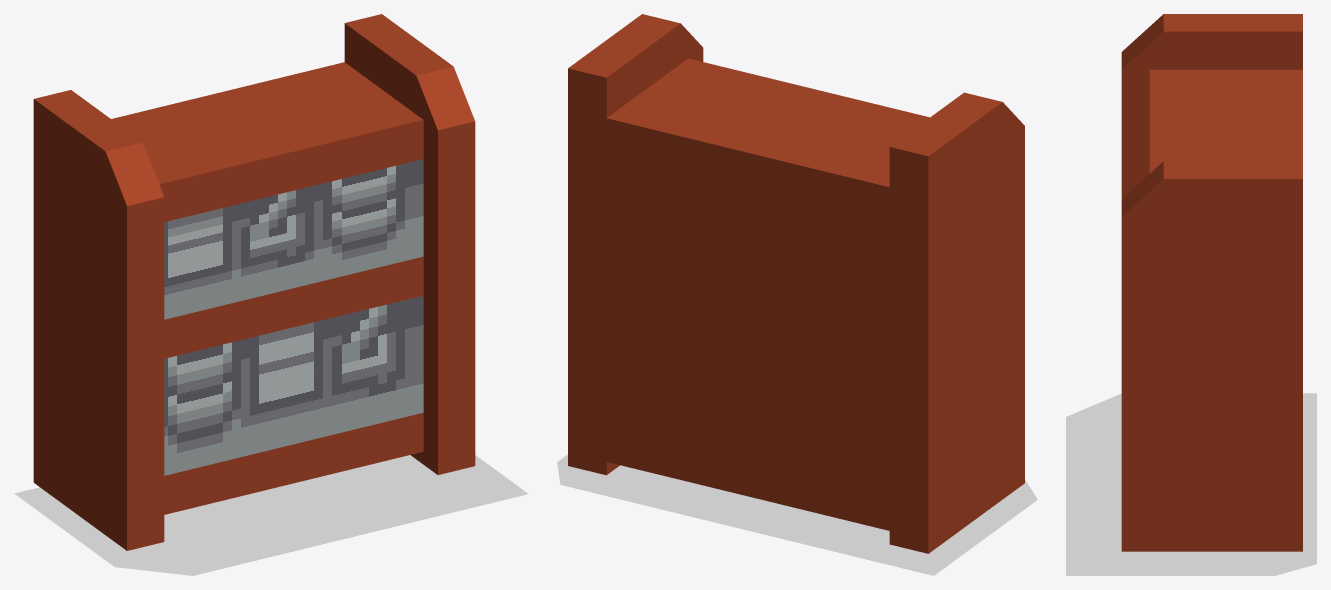
Rendered from Shelf 12.obj.
The picture shows the model from 3 angles, left to right: view 1: azimuth 30°, elevation 25°; view 2: azimuth 150°, elevation 25°; view 3: azimuth 270°, elevation 25°; orthographic projection. The views are drawn at different scales.
Visible parts, largest first — view 1: polygon1, polygon0; view 2: polygon1, polygon0; view 3: polygon1, polygon0.
Part boxes in pixels (x1,y1,x2,y2): polygon1: (33, 14, 475, 550); polygon0: (14, 455, 528, 575); polygon1: (568, 14, 1024, 553); polygon0: (557, 454, 1037, 575); polygon1: (1121, 14, 1302, 551); polygon0: (1066, 393, 1316, 575).
Size of the model in its own units: 31 by 30.5 by 18.
